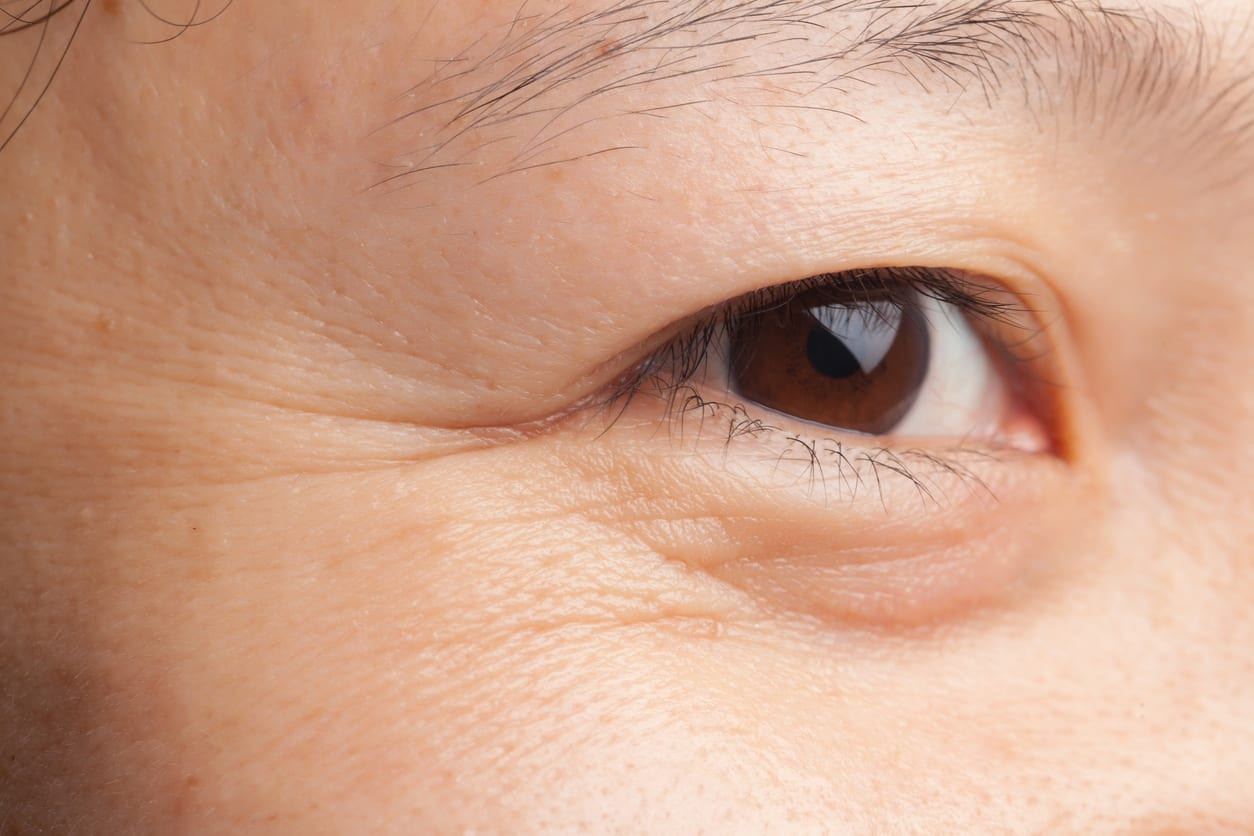Kerutan: (169, 305, 638, 666), (488, 463, 1120, 695)
